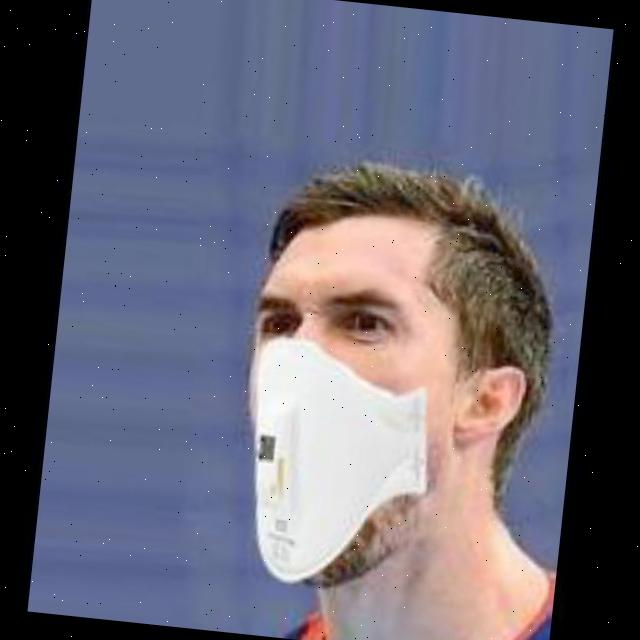suspicion: (216, 140, 580, 637)
